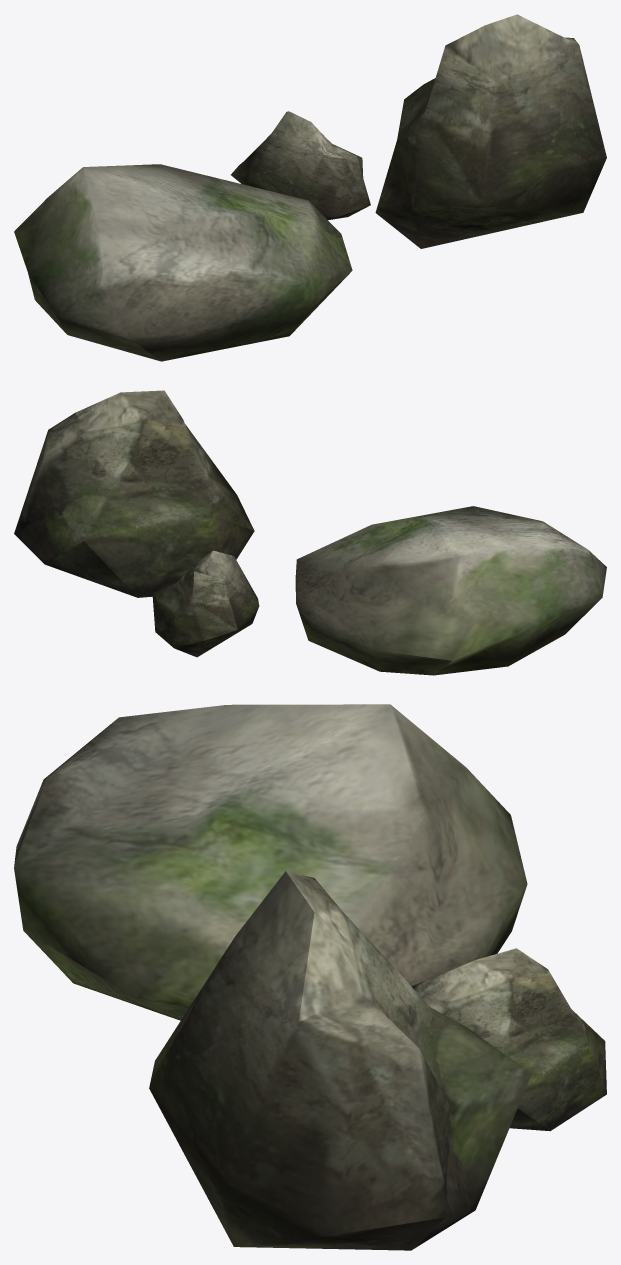
Rendered from rock_group_3_floor.fbx.
3 views of the same model, one above another, from view 1: azimuth 30°, elevation 25°; view 2: azimuth 150°, elevation 25°; view 3: azimuth 270°, elevation 25° (orthographic). The views are drawn at different scales.
Visible parts, largest first — view 1: rock_1, rock_2, rock_3; view 2: rock_1, rock_2, rock_3; view 3: rock_1, rock_2, rock_3.
Part boxes in pixels (bbox=[...]): rock_1: bbox=[14, 164, 352, 361]; rock_2: bbox=[375, 14, 606, 248]; rock_3: bbox=[231, 111, 370, 220]; rock_1: bbox=[295, 506, 606, 675]; rock_2: bbox=[14, 390, 254, 597]; rock_3: bbox=[152, 550, 259, 657]; rock_1: bbox=[14, 704, 527, 1020]; rock_2: bbox=[149, 871, 531, 1250]; rock_3: bbox=[414, 948, 606, 1131].
Bounding box in the file's own units: 986 × 346 × 537.
Materials: 1 (1 with a texture image).
